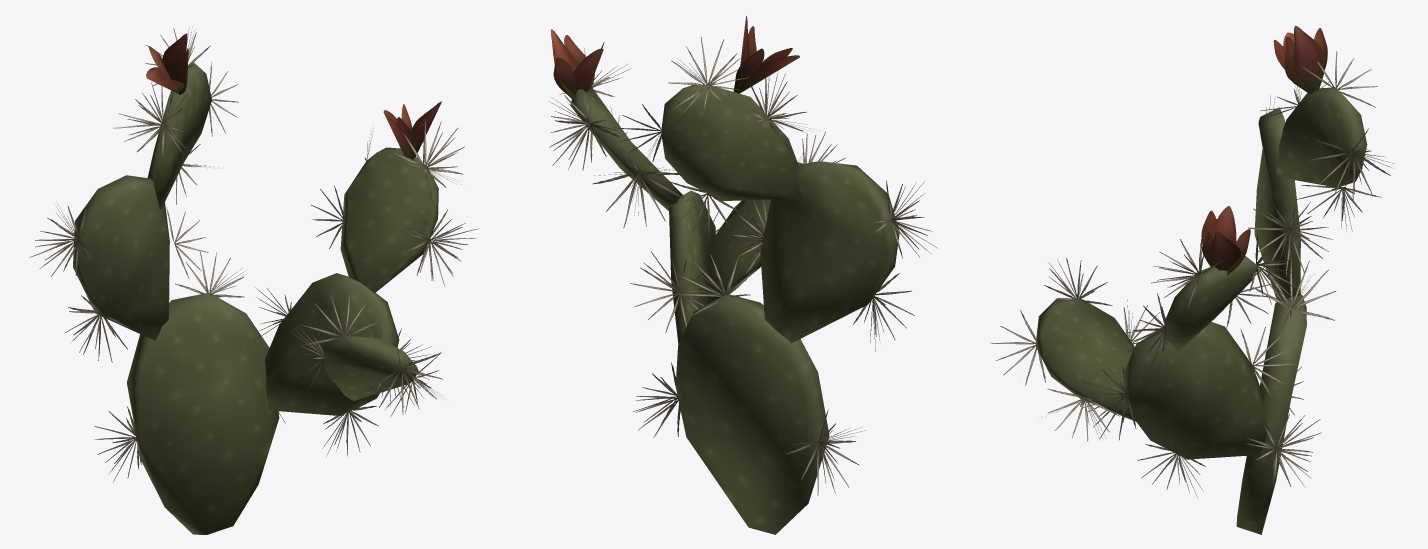
File: Scene_Tree_XianRenZhang_6.FBX
The picture shows the model from 3 angles, left to right: view 1: azimuth 30°, elevation 25°; view 2: azimuth 150°, elevation 25°; view 3: azimuth 270°, elevation 25°; orthographic projection. The views are drawn at different scales.
Visible parts, largest first — view 1: Scene_Tree_XianRenZhang_6a, Scene_Tree_XianRenZhang_6b; view 2: Scene_Tree_XianRenZhang_6a, Scene_Tree_XianRenZhang_6b; view 3: Scene_Tree_XianRenZhang_6a, Scene_Tree_XianRenZhang_6b.
Boxes of the visible parts, x1,y1,x2,y2 form: Scene_Tree_XianRenZhang_6a: (73, 63, 438, 534); Scene_Tree_XianRenZhang_6b: (29, 26, 478, 482); Scene_Tree_XianRenZhang_6a: (570, 85, 899, 534); Scene_Tree_XianRenZhang_6b: (549, 16, 937, 495); Scene_Tree_XianRenZhang_6a: (1035, 87, 1367, 534); Scene_Tree_XianRenZhang_6b: (990, 25, 1394, 498).
Size of the model in its own units: 169 by 190 by 148.
